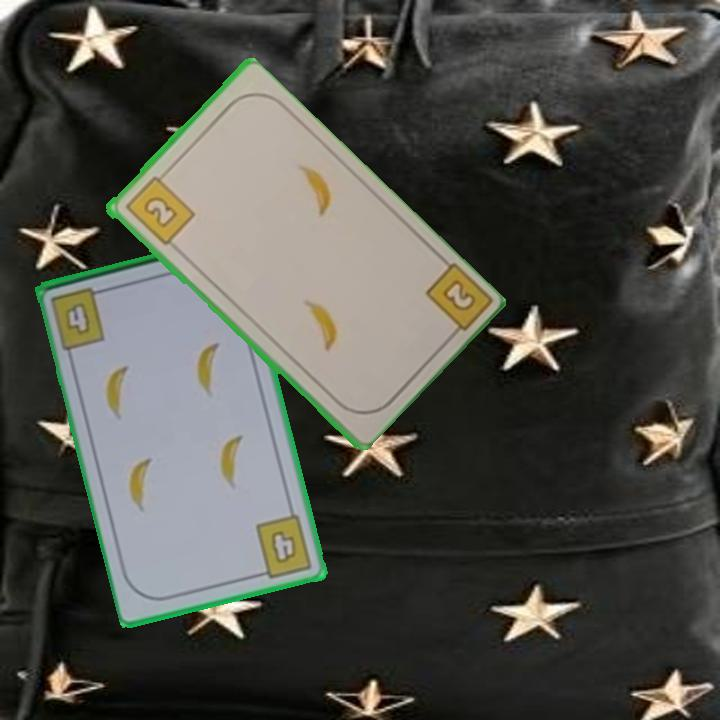2b: (121, 169, 197, 249), (421, 259, 492, 344)
4b: (252, 511, 316, 581), (47, 283, 111, 353)
